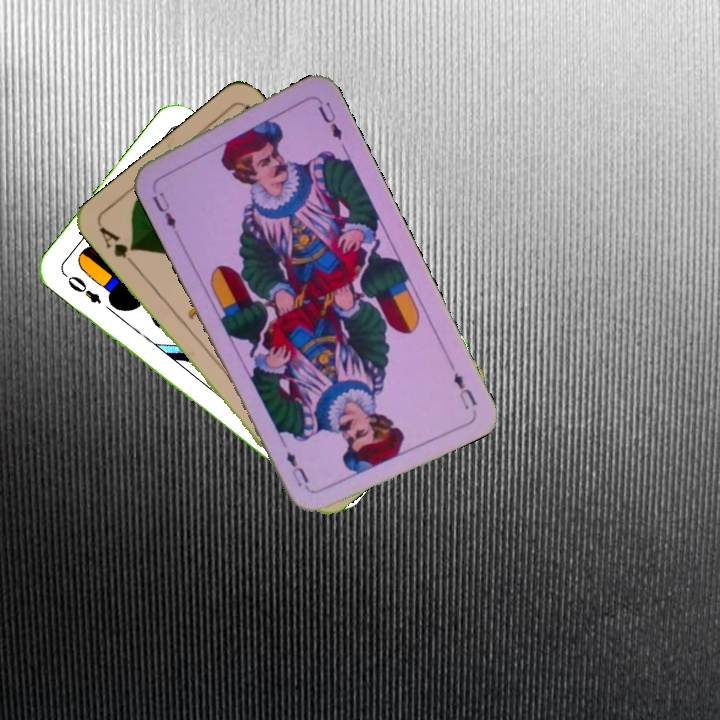EO: (59, 269, 104, 307)
EU: (449, 368, 480, 412), (148, 188, 179, 231)
GA: (95, 222, 140, 271)
